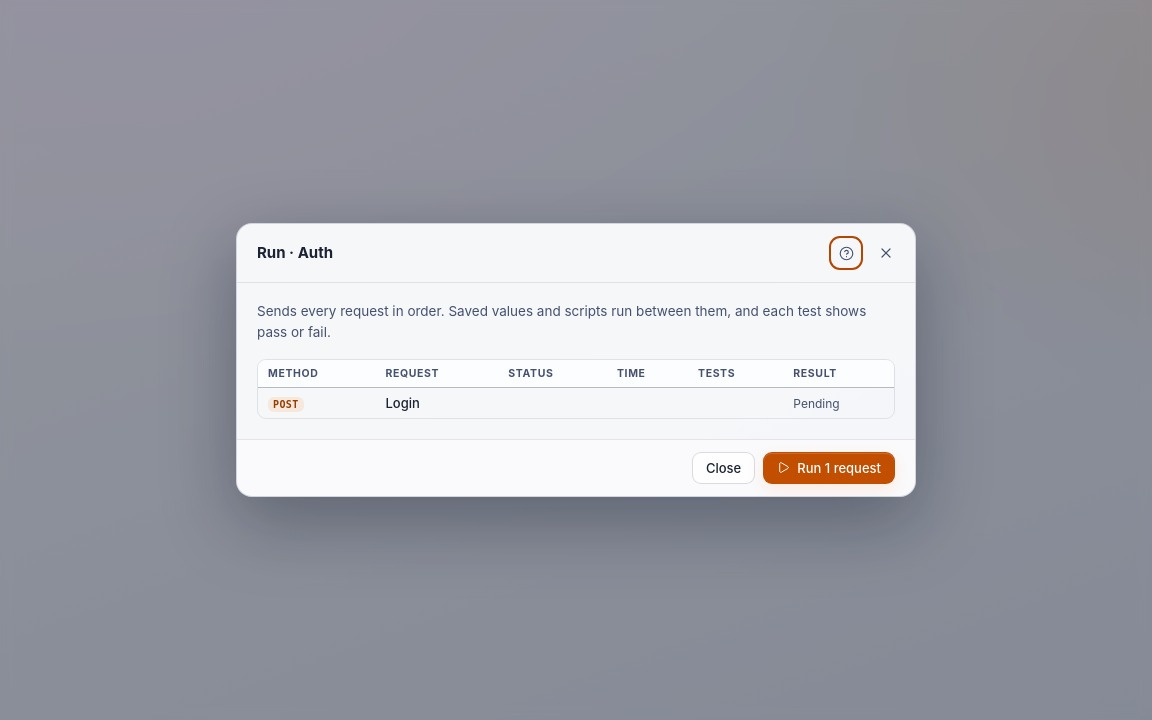
Test case: RunnerModal variables › hands back the variables the run set, so they are saved to the environment
Click the button "Run 1 request" at (829, 468), box [763,452,895,484]
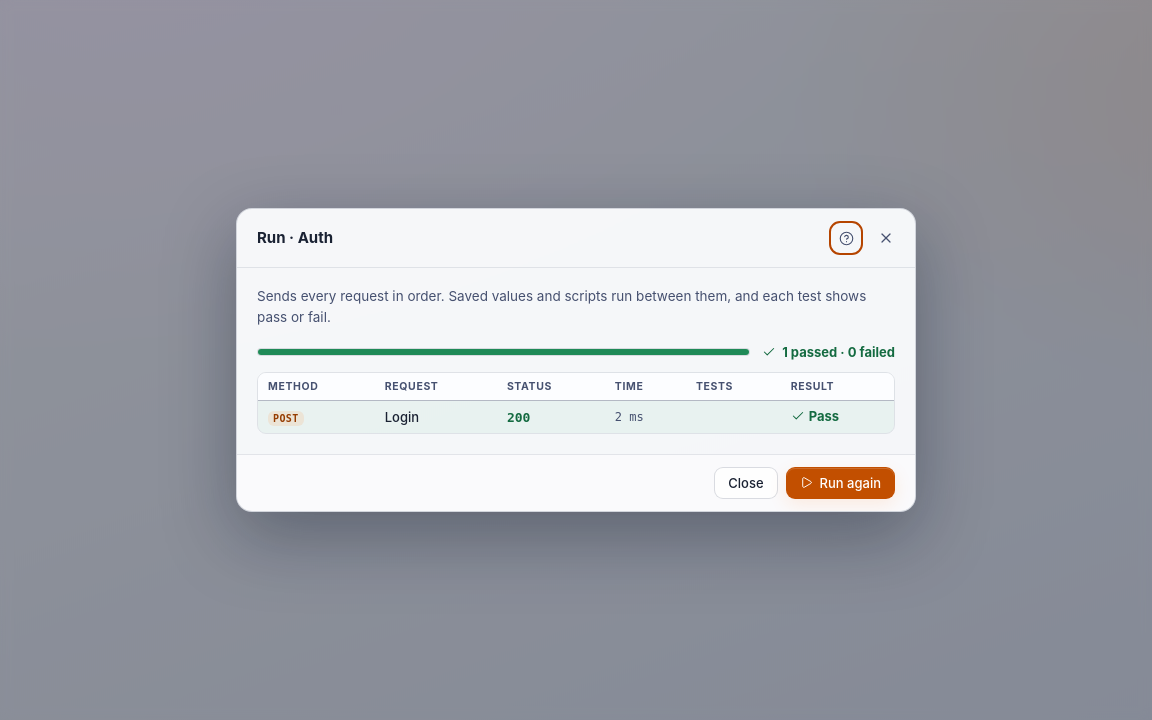
Result: the text "1 passed · 0 failed" is shown at [762,344,895,360]
